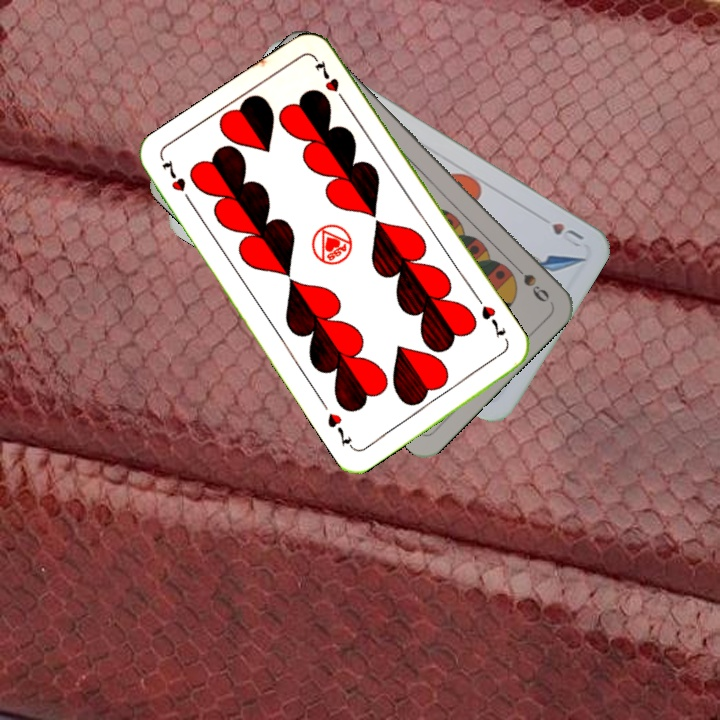H7: (158, 155, 196, 208), (473, 293, 509, 342)
HU: (547, 218, 587, 250)
S9: (507, 258, 552, 305)
